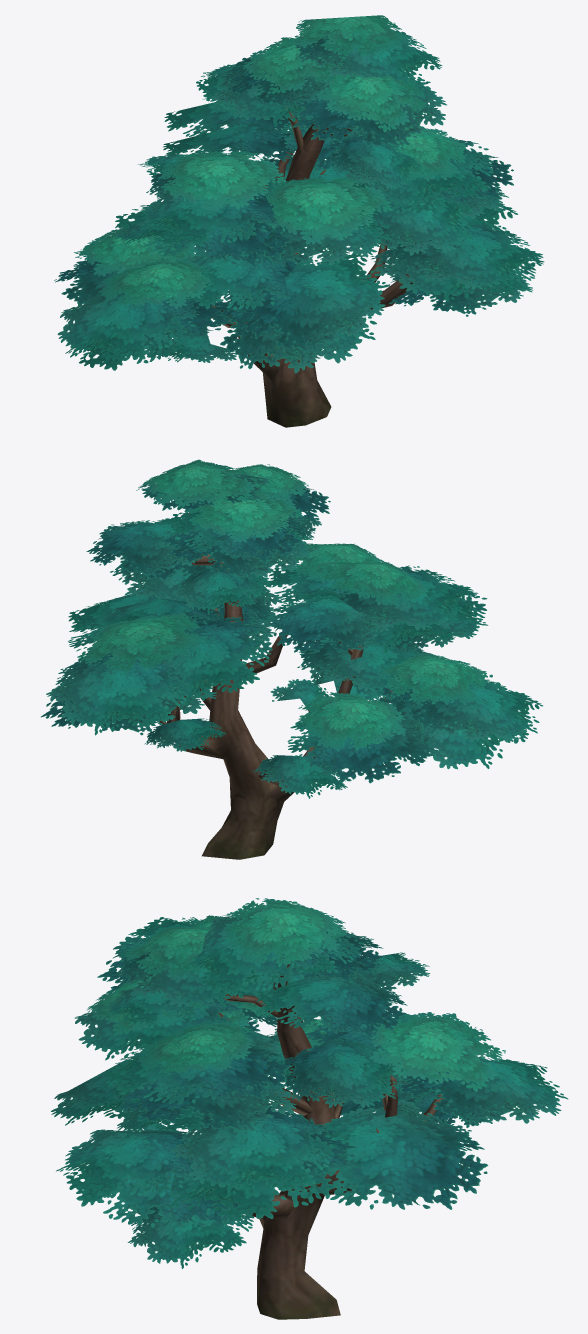
File: tongyong_toutie_10_11.fbx
The picture shows the model from 3 angles, top to bottom: view 1: azimuth 30°, elevation 25°; view 2: azimuth 150°, elevation 25°; view 3: azimuth 270°, elevation 25°; orthographic projection. The views are drawn at different scales.
Visible parts, largest first — view 1: tongyong_toutie_10_11; view 2: tongyong_toutie_10_11; view 3: tongyong_toutie_10_11.
Part boxes in pixels (box(x1,y1,x2,y2)): tongyong_toutie_10_11: box(54, 15, 544, 427); tongyong_toutie_10_11: box(41, 459, 542, 859); tongyong_toutie_10_11: box(51, 898, 568, 1319).
Size of the model in its own units: 1128 by 817 by 987.
